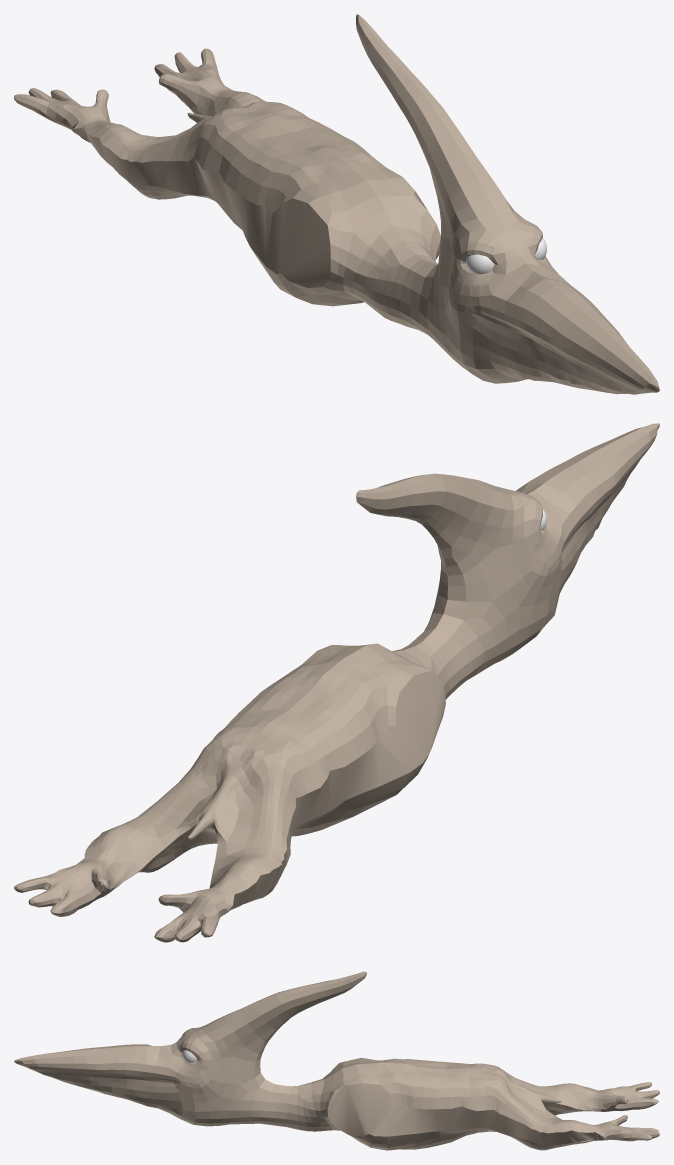
The model's file is Cuerpo.obj.
3 views of the same model, one above another, from view 1: azimuth 30°, elevation 25°; view 2: azimuth 150°, elevation 25°; view 3: azimuth 270°, elevation 25° (orthographic). The views are drawn at different scales.
Parts seen in each view (by area): view 1: eyeleft_1; view 2: eyeleft_1; view 3: eyeleft_1.
Part boxes in pixels (left/top/right/bottom): eyeleft_1: left=14, top=14, right=659, bottom=394; eyeleft_1: left=14, top=423, right=659, bottom=942; eyeleft_1: left=14, top=971, right=659, bottom=1150.
Size of the model in its own units: 1.79 by 2.61 by 8.77.
7 materials, 6 textured.
